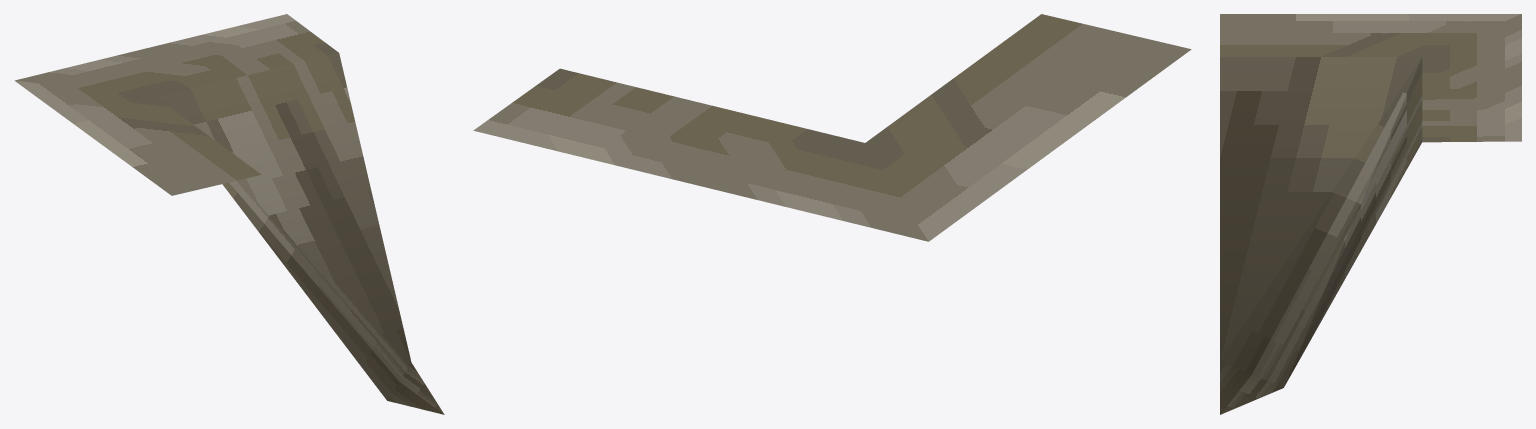
3 views of the same model, side by side, from view 1: azimuth 30°, elevation 25°; view 2: azimuth 150°, elevation 25°; view 3: azimuth 270°, elevation 25° (orthographic). The views are drawn at different scales.
Size of the model in its own units: 1 by 1 by 1.
Materials: 2 (2 with a texture image).
